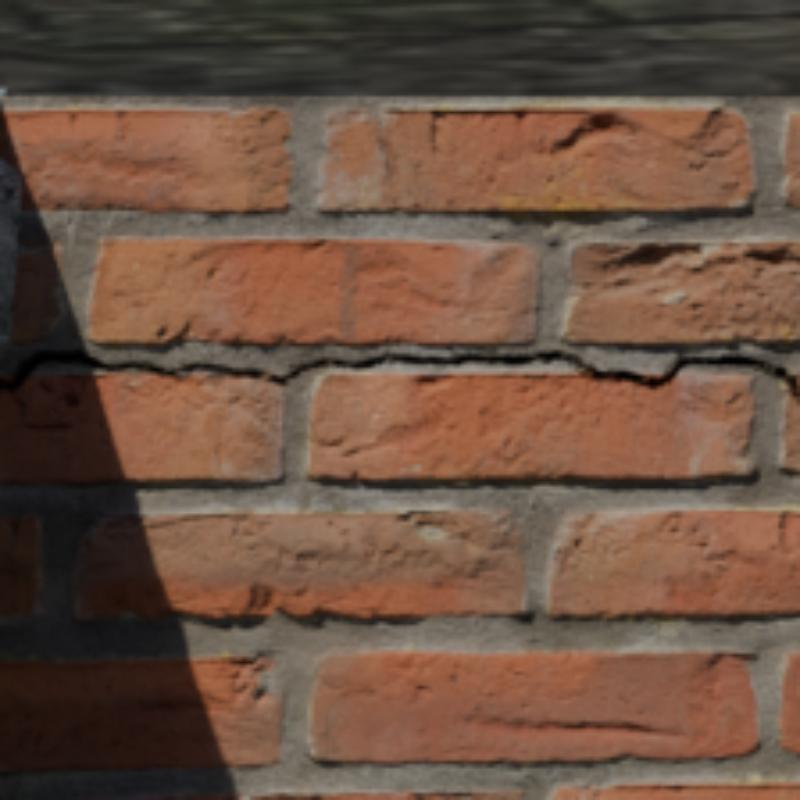pothole: (0, 350, 796, 400)
